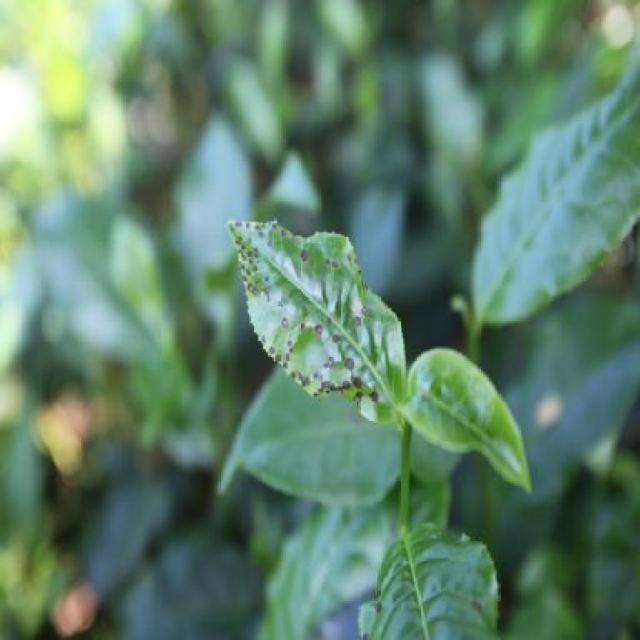Tea Mosquito bug infested leaf: (224, 218, 398, 420)
